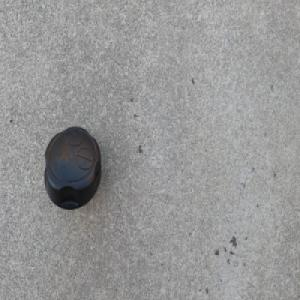FuelCap: (41, 124, 102, 211)
